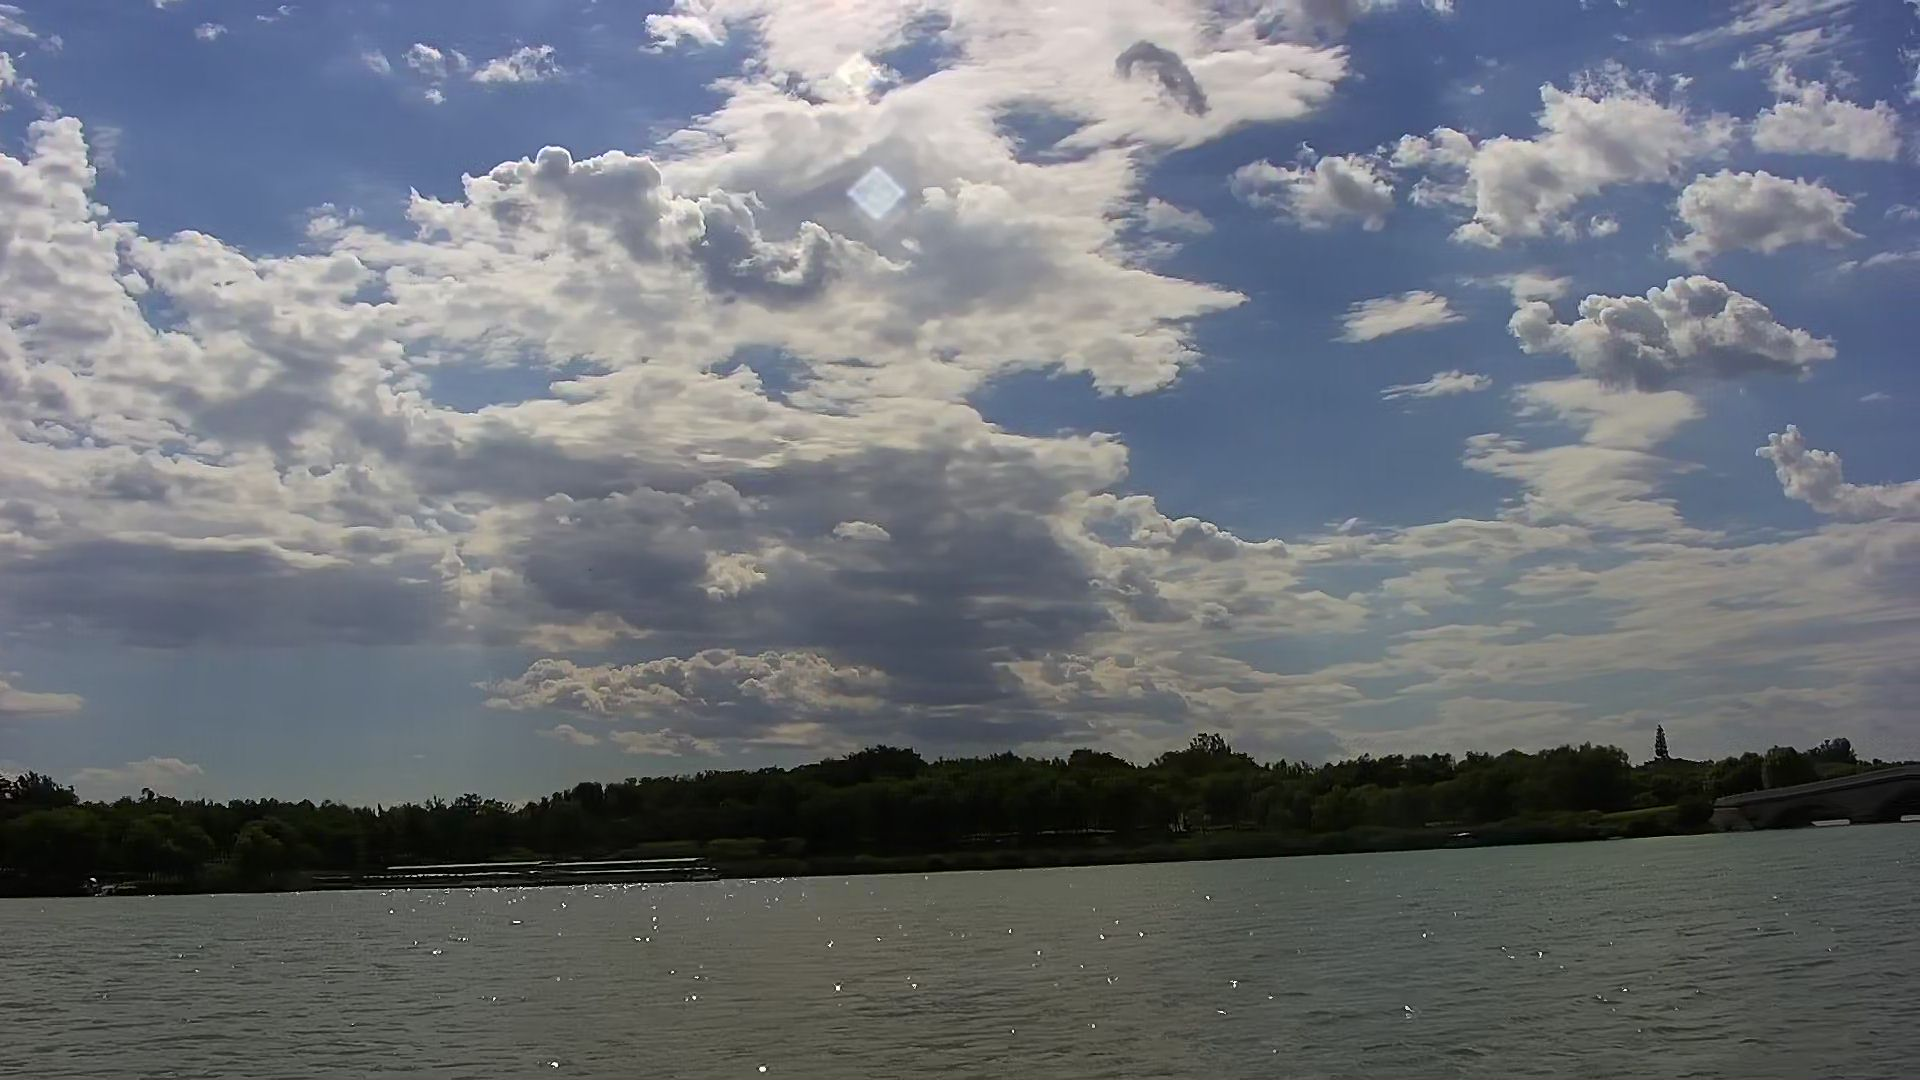bridge: (1718, 761, 1920, 829)
harbor: (378, 852, 705, 890)
